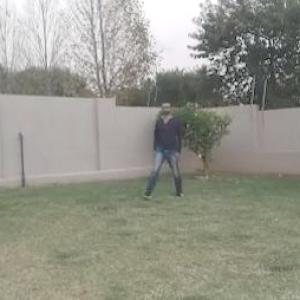follow: (154, 96, 180, 200)
